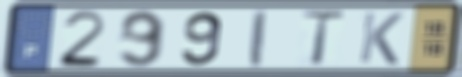2: (56, 9, 108, 69)
9: (118, 8, 169, 69), (180, 11, 223, 66)
I: (248, 8, 270, 69)
K: (356, 10, 406, 67)
T: (298, 9, 348, 68)
